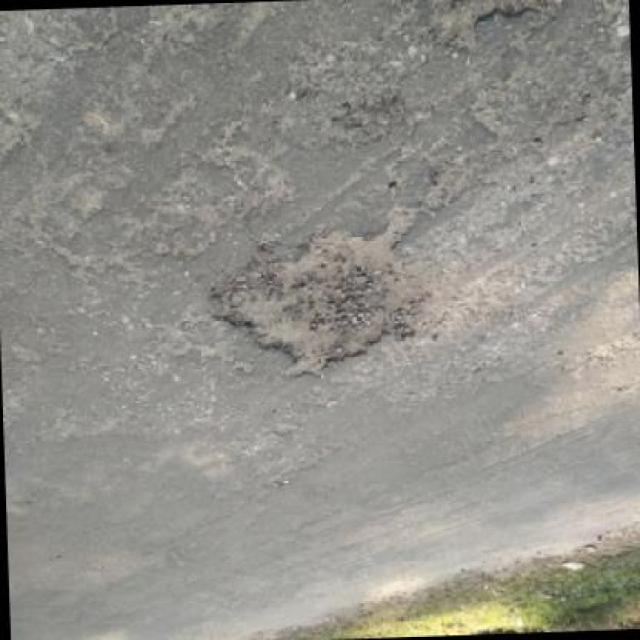pothole1: (204, 225, 450, 386), (418, 0, 564, 54)
